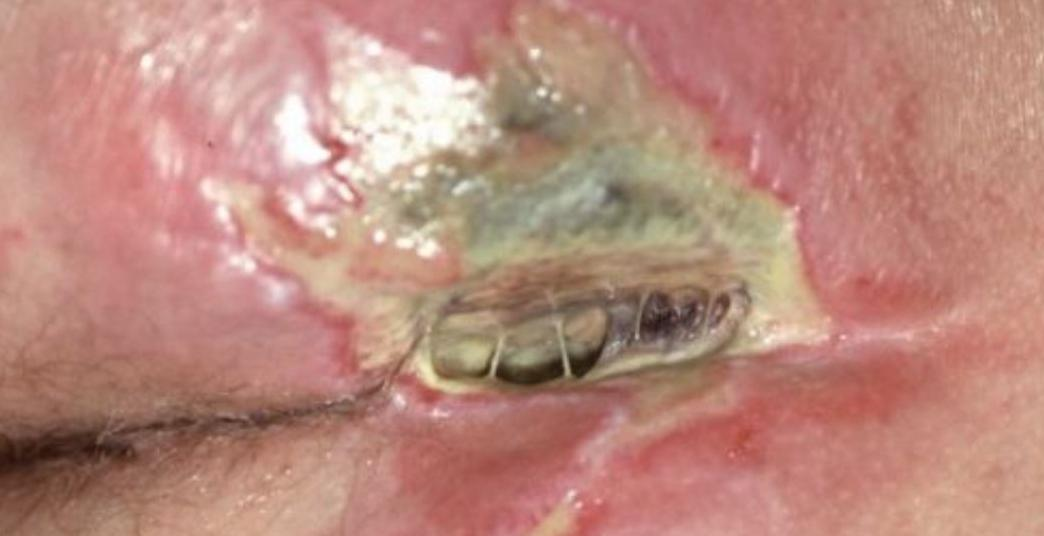Stage3: (401, 53, 831, 513)
